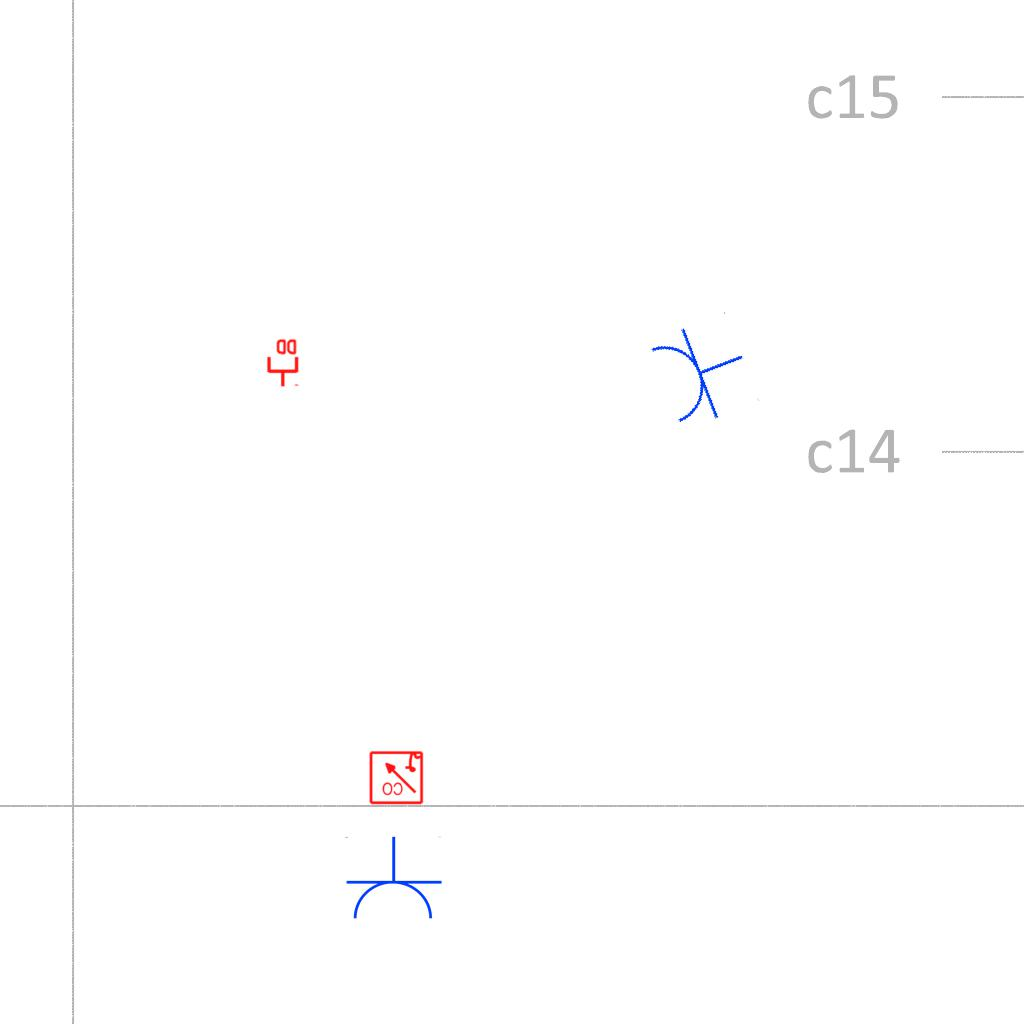Datenanschluss_zweifach: (265, 337, 299, 388)
ROA_Rauchmelder_optisch_mit_Signalgeber_(Sockelsirene): (368, 749, 424, 805)
Schukosteckdose_einfach: (643, 309, 761, 434), (343, 836, 443, 923)
